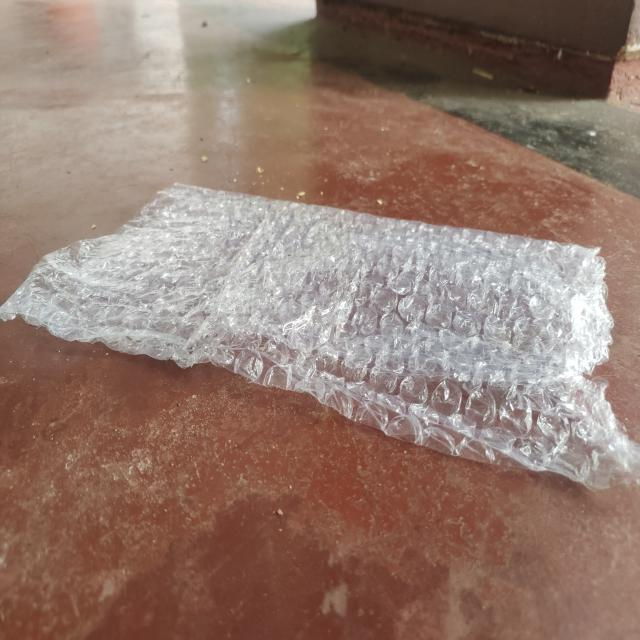plastic: (0, 182, 638, 489)
